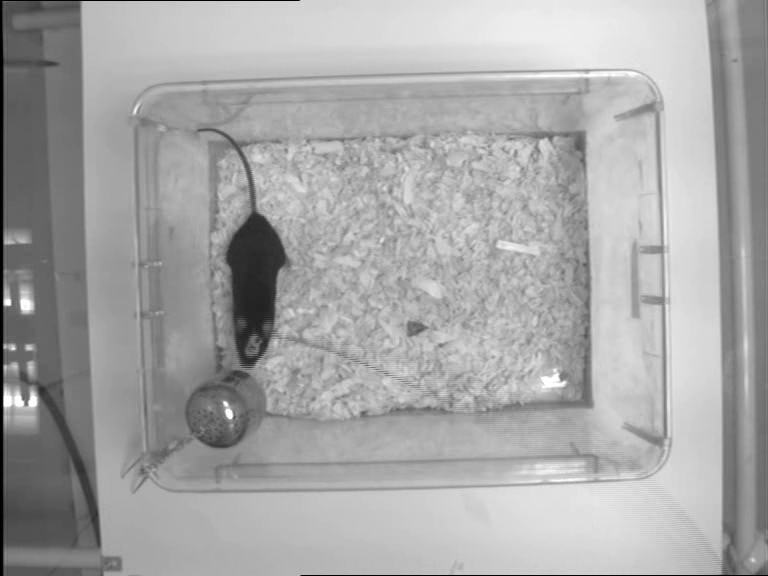mice: (196, 126, 297, 368)
